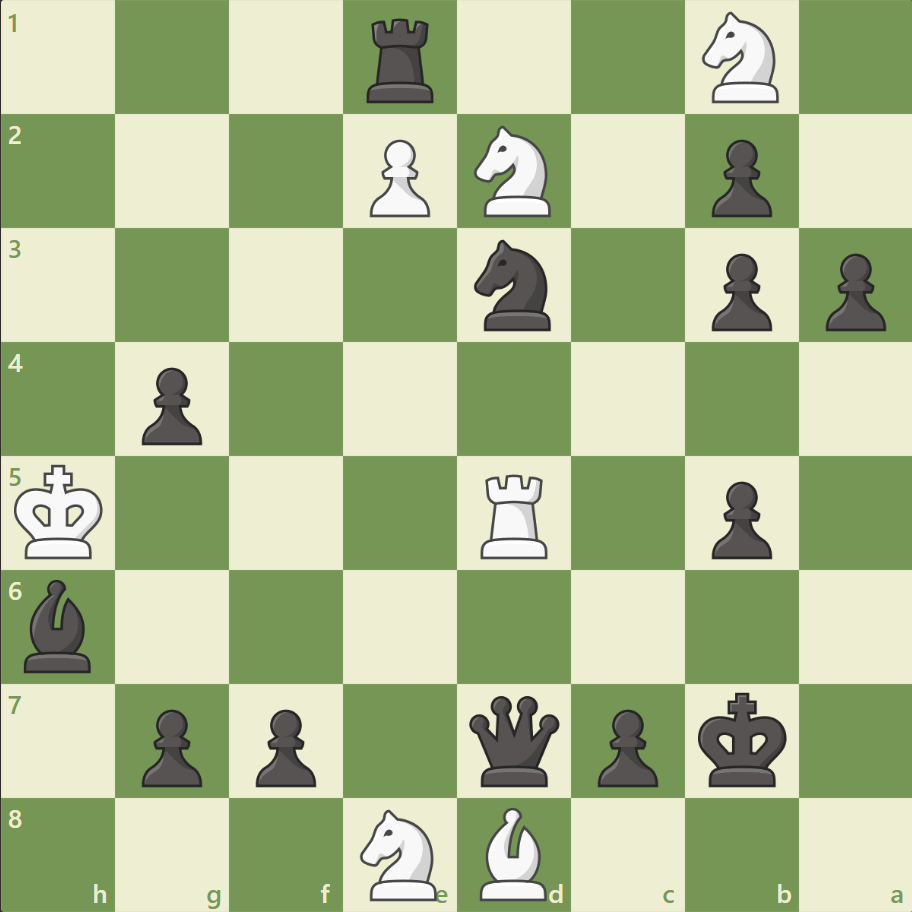B: (471, 801, 555, 904)
K: (11, 458, 111, 566)
N: (351, 802, 449, 904), (692, 7, 789, 110), (465, 121, 562, 223)
P: (361, 132, 435, 223)
R: (473, 466, 556, 563)
b: (17, 574, 101, 676)
k: (692, 685, 792, 793)
n: (465, 234, 562, 337)
p: (247, 700, 322, 791), (133, 700, 208, 791), (701, 473, 776, 564), (133, 359, 208, 450), (701, 246, 776, 337), (701, 132, 776, 223), (588, 700, 662, 791), (815, 246, 889, 337)
q: (464, 690, 563, 789)
r: (360, 12, 442, 109)
